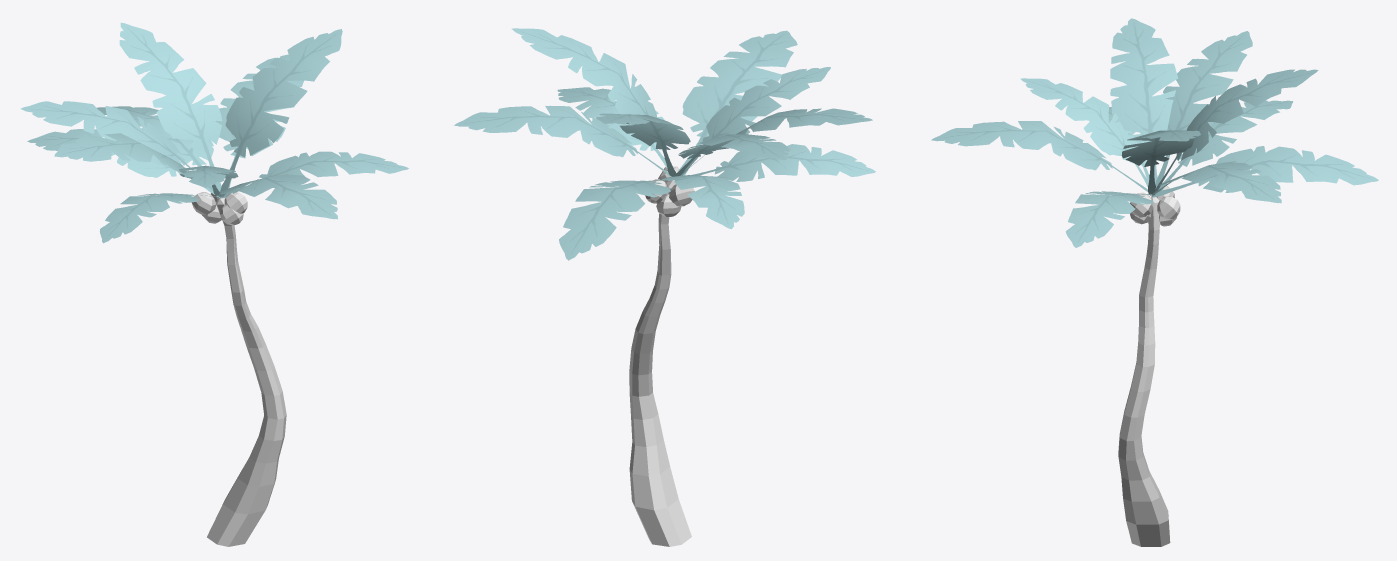
The model's file is M.coconut_tree-v4-2.fbx.
3 views of the same model, side by side, from view 1: azimuth 30°, elevation 25°; view 2: azimuth 150°, elevation 25°; view 3: azimuth 270°, elevation 25° (orthographic). The views are drawn at different scales.
Visible parts, largest first — view 1: palmtree_04; view 2: palmtree_04; view 3: palmtree_04.
Part boxes in pixels (<box>): palmtree_04: <box>20,22,408,546</box>; palmtree_04: <box>454,28,875,546</box>; palmtree_04: <box>931,18,1378,546</box>.
Bounding box in the file's own units: 819 × 1042 × 936.
